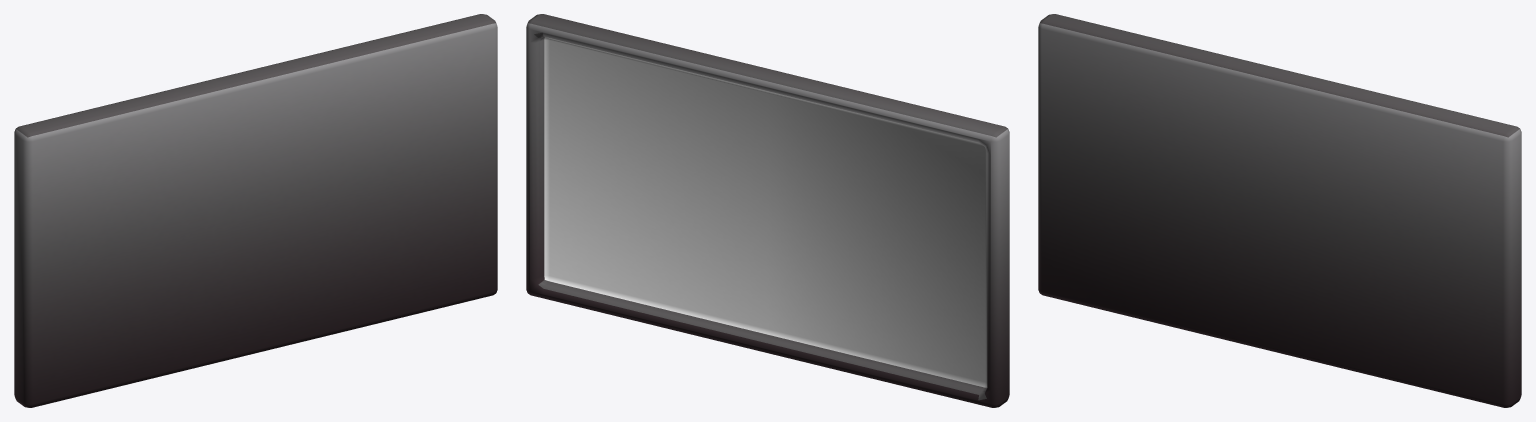
Rendered from Props_Board_01.fbx.
3 renders of one model, left to right at view 1: azimuth 30°, elevation 25°; view 2: azimuth 150°, elevation 25°; view 3: azimuth 330°, elevation 25°, orthographic.
Visible parts, largest first — view 1: Props_Board_01; view 2: Props_Board_01; view 3: Props_Board_01.
Boxes of the visible parts, x1,y1,x2,y2 form: Props_Board_01: [14, 14, 497, 407]; Props_Board_01: [526, 14, 1009, 407]; Props_Board_01: [1038, 14, 1521, 407].
Bounding box in the file's own units: 180 × 100 × 10.
